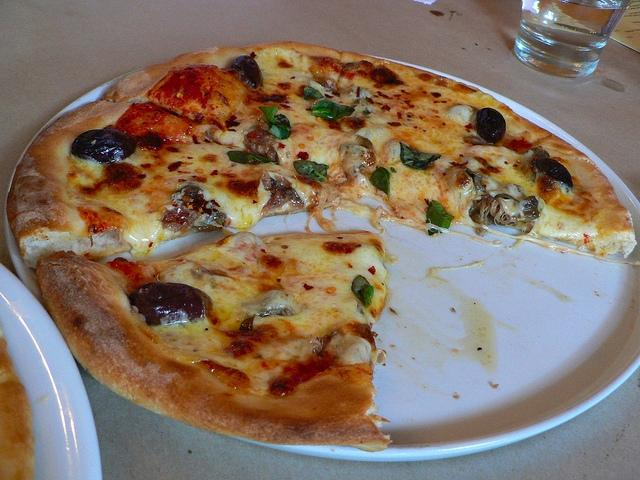mushroom: (127, 282, 205, 326), (469, 194, 535, 234), (72, 130, 136, 164), (324, 332, 380, 366), (263, 171, 303, 210), (241, 290, 296, 318), (242, 130, 280, 166), (227, 55, 262, 90), (534, 158, 572, 190), (476, 108, 506, 143), (338, 144, 368, 176), (447, 105, 478, 126), (172, 184, 204, 204), (174, 205, 202, 224), (466, 168, 486, 192), (192, 224, 222, 232), (354, 98, 371, 106), (358, 163, 366, 172)
